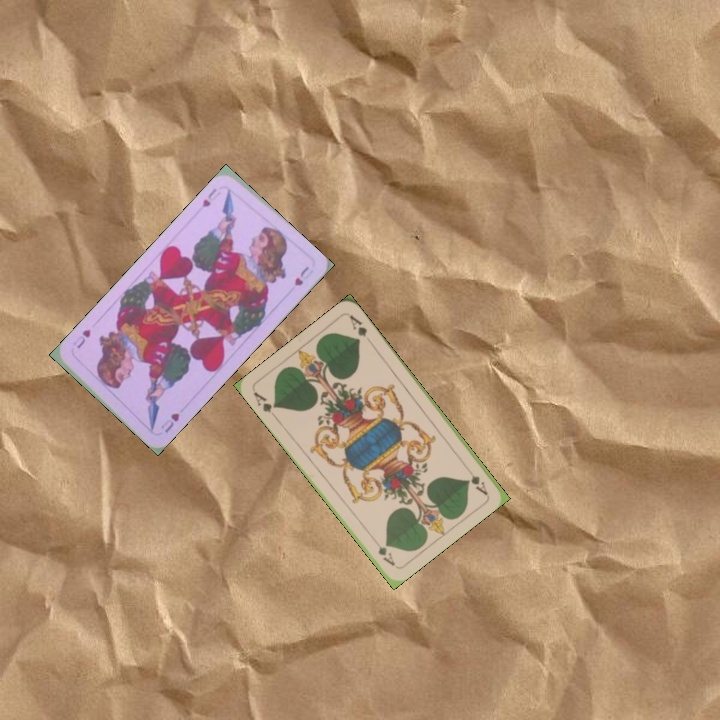GA: (249, 387, 280, 422), (461, 462, 490, 497)
HU: (156, 409, 182, 435), (198, 184, 223, 210)
